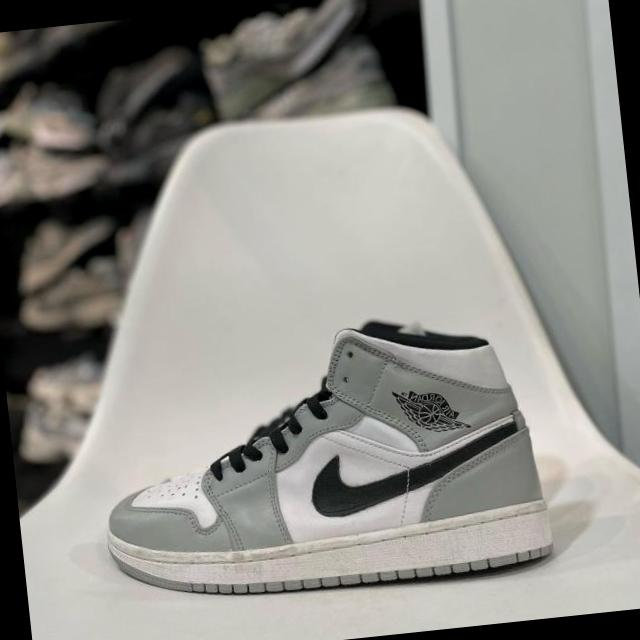nike_fake_jordan: (78, 304, 560, 615)
